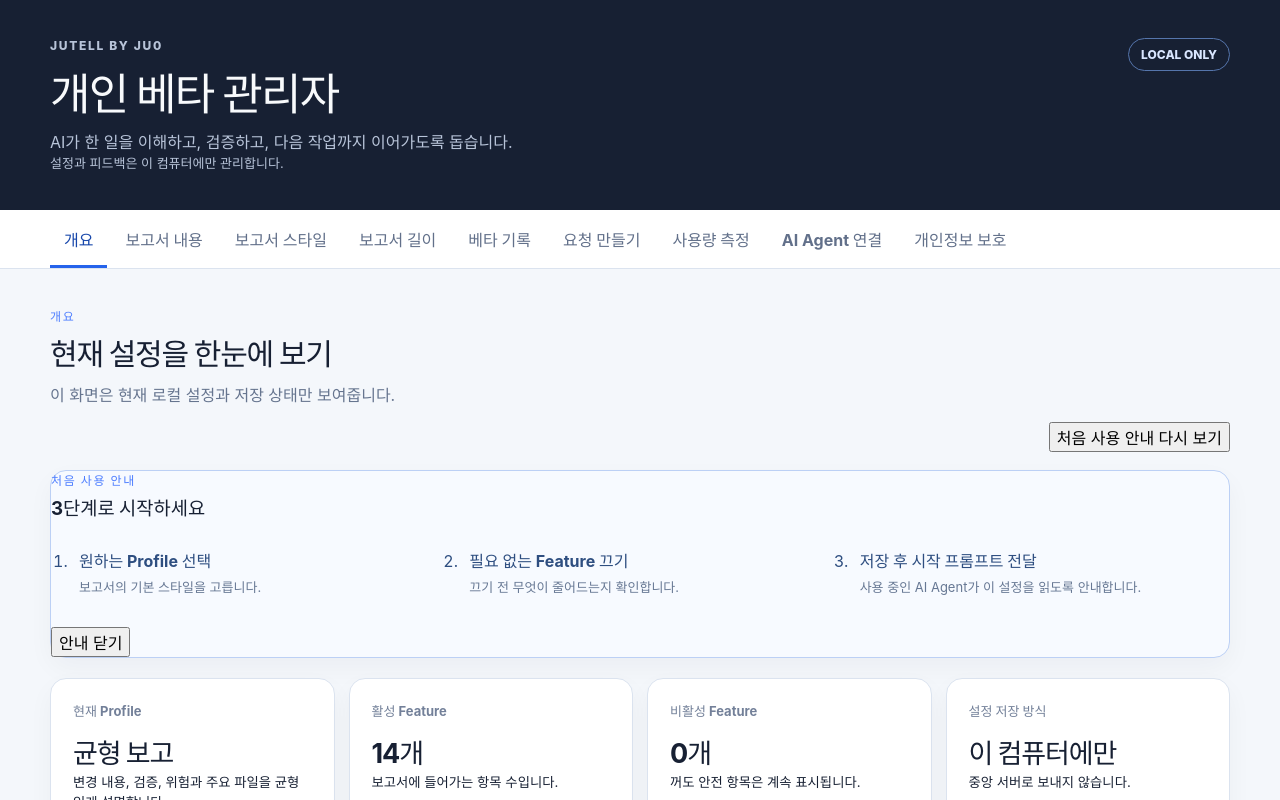
Test case: local admin screens › compares a Profile choice before save
What coordinates should you click on to do the following:
click the button "보고서 스타일"
I would click on:
 (281, 239)
Its box is left=221, top=210, right=341, bottom=268.
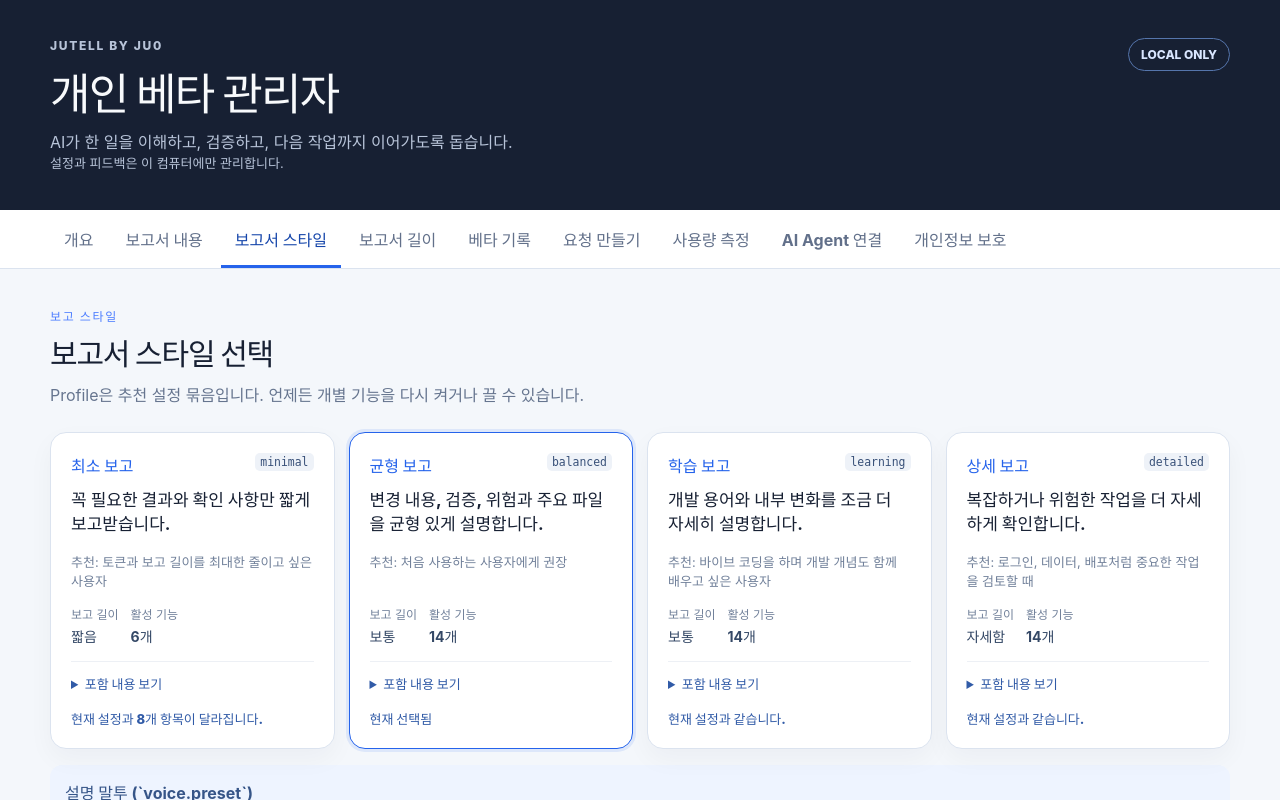
Now the text "최소 보고" is shown, box left=71, top=453, right=133, bottom=477
Now the text "추천: 처음 사용하는 사용자에게 권장" is shown, box left=370, top=554, right=567, bottom=570
What coordinates should you click on to do the following:
click the button "최소 보고"
I would click on:
 (102, 466)
Its box is left=50, top=432, right=334, bottom=749.
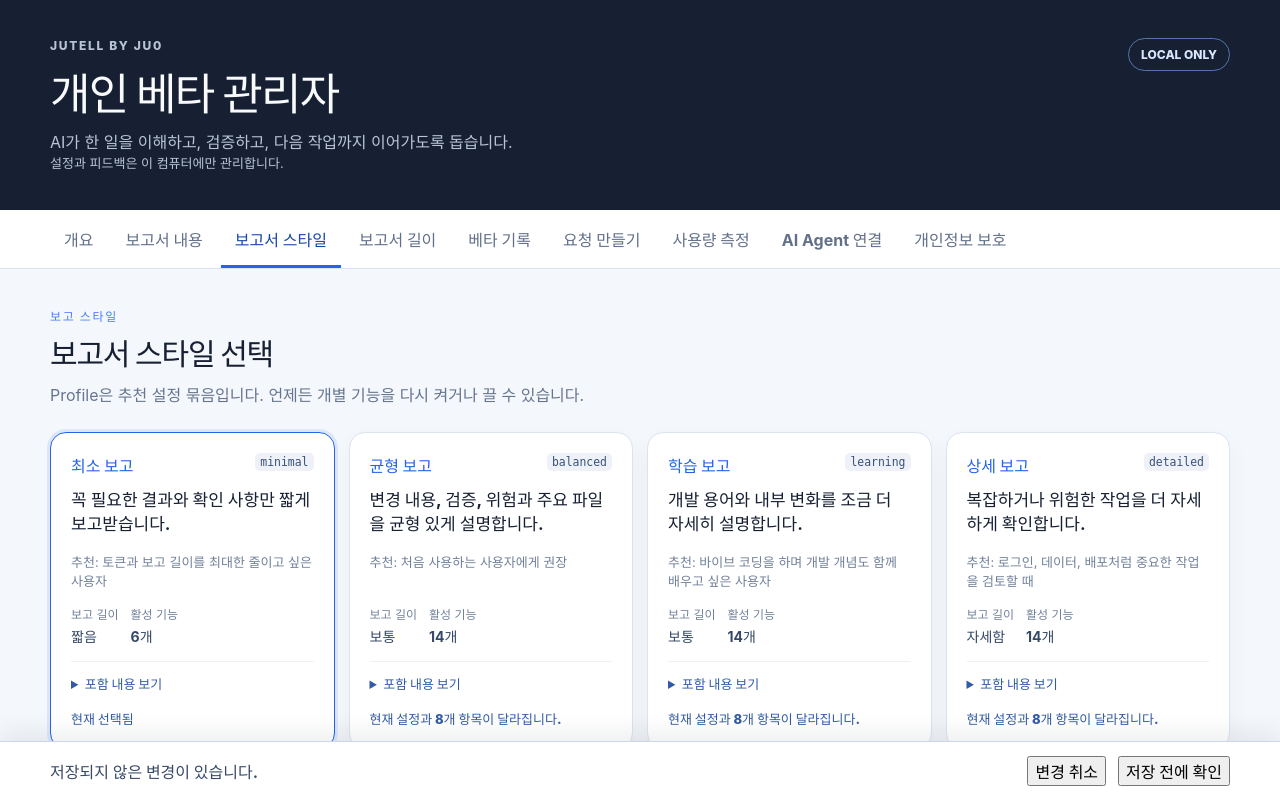
Now the text "저장되지 않은 변경이 있습니다." is shown, box left=50, top=759, right=258, bottom=783
